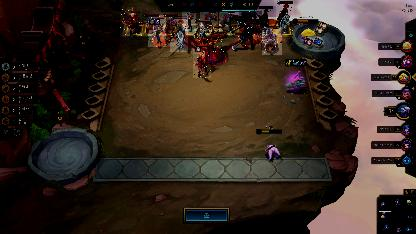1_aphelios: (182, 11, 196, 31)
1_hecarim: (120, 7, 142, 37), (193, 44, 211, 78)
1_rell: (256, 6, 276, 32)
1_rengar: (219, 10, 239, 32), (200, 11, 218, 31)
2_aphelios: (148, 15, 166, 47)
2_qiyana: (194, 18, 210, 44)
2_rell: (274, 0, 294, 36), (170, 16, 188, 52)
2_rengar: (230, 11, 262, 35), (237, 22, 259, 52)
2_sejuani: (262, 27, 282, 55)
3_senna: (202, 25, 228, 63)
